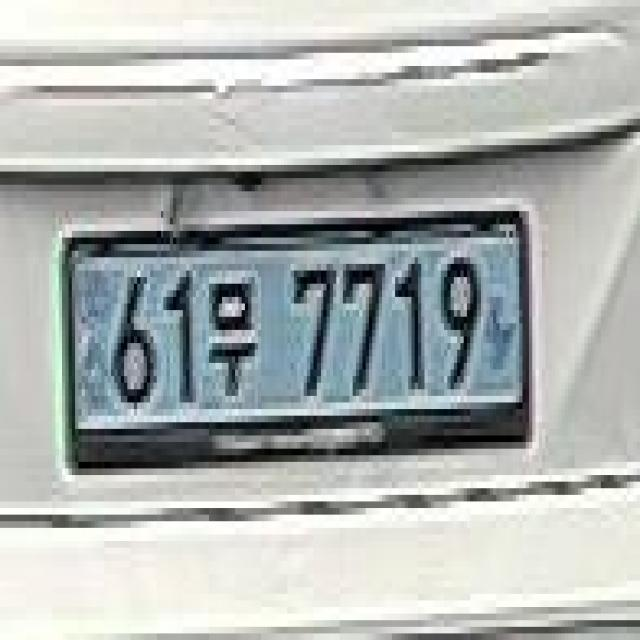EV_plate: (59, 202, 536, 480)
